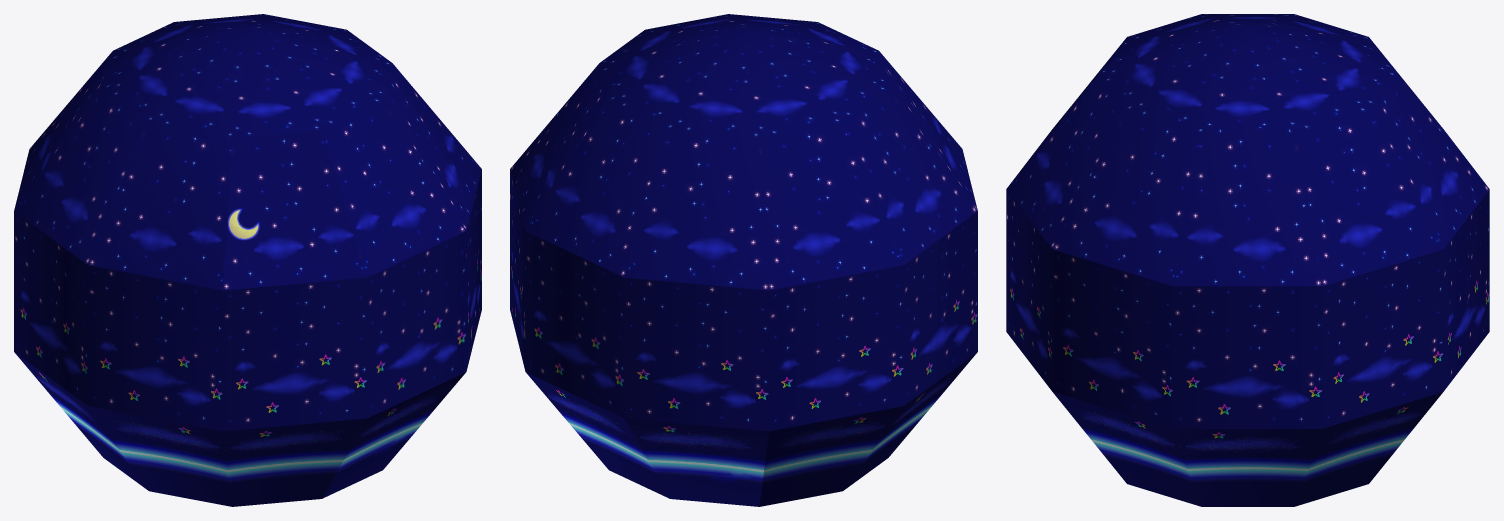
The model's file is escenario2.obj.
3 views of the same model, side by side, from view 1: azimuth 30°, elevation 25°; view 2: azimuth 150°, elevation 25°; view 3: azimuth 270°, elevation 25° (orthographic).
Visible parts, largest first — view 1: rrgba.w.001; view 2: rrgba.w.001; view 3: rrgba.w.001.
Boxes of the visible parts, box(x1,y1,x2,y2) form: rrgba.w.001: box(14, 14, 481, 506); rrgba.w.001: box(510, 14, 977, 506); rrgba.w.001: box(1006, 14, 1489, 506).
Size of the model in its own units: 225 by 248 by 236.
7 materials, 7 textured.
